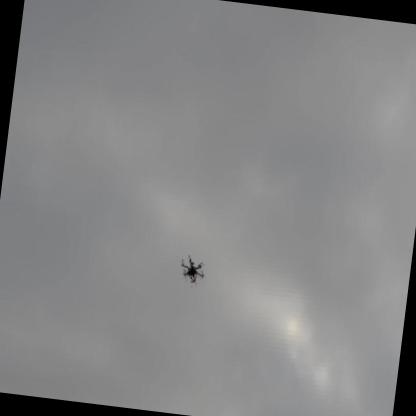drone: (175, 246, 208, 289)
